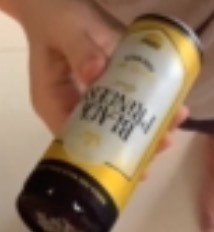blackprincess: (16, 9, 207, 232)
